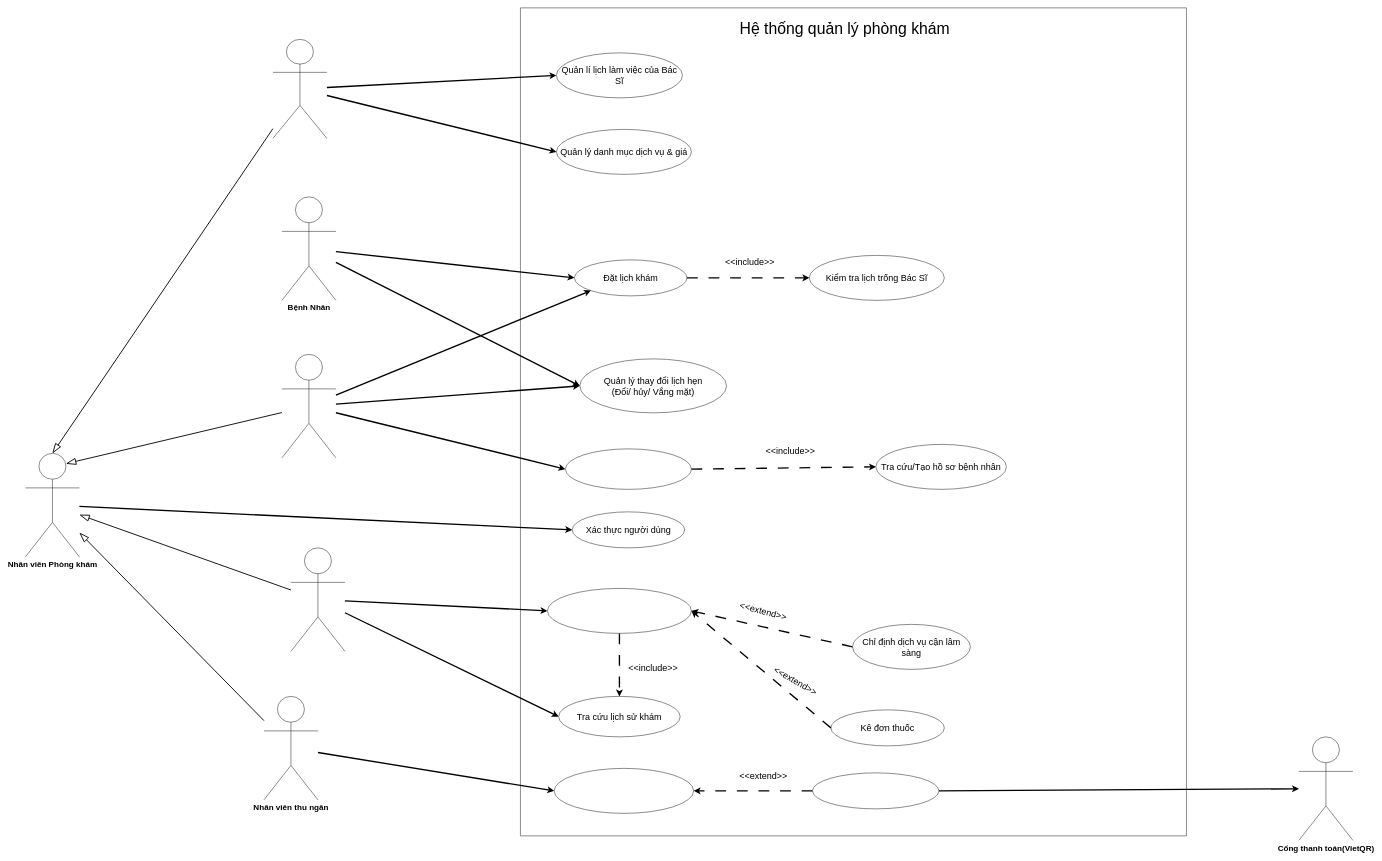
This 1382x861 diagram has some shape labels left out. Here are the shapes that lost their labels. From the top down, the centre of each, then its label:
At (x=299, y=88): "Quản lý phòng khám".
At (x=308, y=406): "Nhân viên Lễ tân".
At (x=628, y=468): "Tiếp nhận bệnh nhân".
At (x=317, y=599): "Bác sĩ".
At (x=619, y=610): "Thực hiện khám & Ghi nhận kết quả".
At (x=624, y=790): "Thanh toán chi phí khám chữa bệnh".
At (x=875, y=790): "Thanh Toán chuyển khoản QR".
